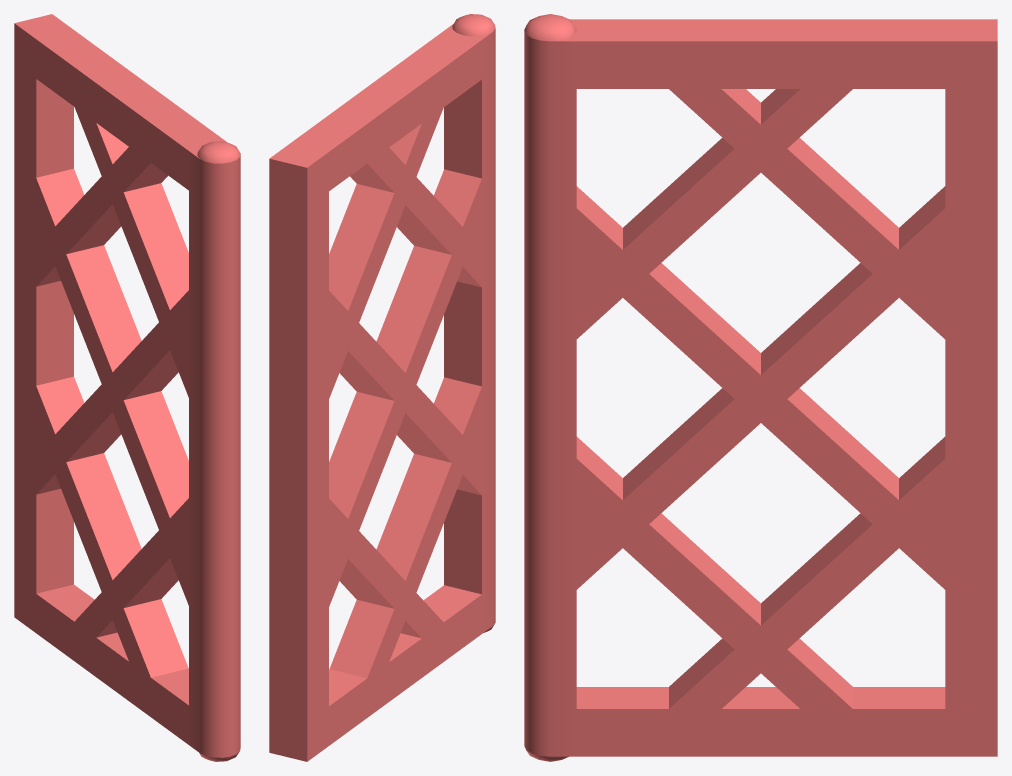
3 renders of one model, left to right at view 1: azimuth 30°, elevation 25°; view 2: azimuth 150°, elevation 25°; view 3: azimuth 270°, elevation 25°, orthographic. The views are drawn at different scales.
Visible parts, largest first — view 1: LDrawPart; view 2: LDrawPart; view 3: LDrawPart.
Part boxes in pixels (<box>): LDrawPart: <box>14,14,240,761</box>; LDrawPart: <box>269,14,495,761</box>; LDrawPart: <box>524,14,997,761</box>.
Bounding box in the file's own units: 0.028 × 0.434 × 0.252.
